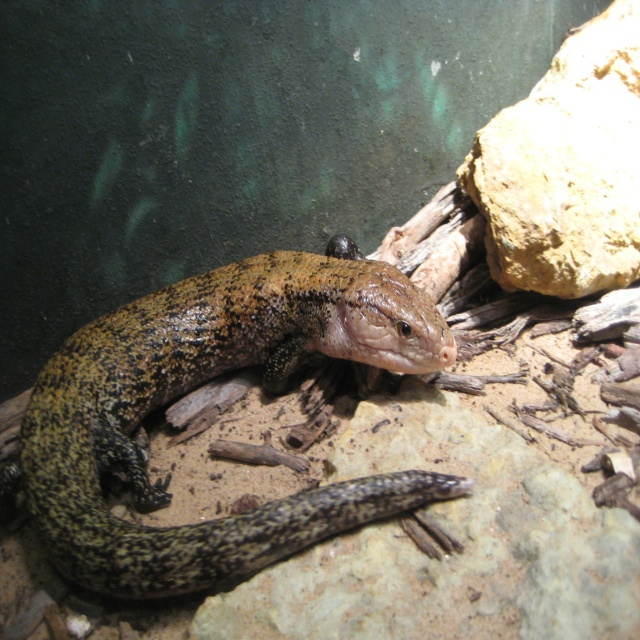Lizard: (0, 234, 474, 600)
